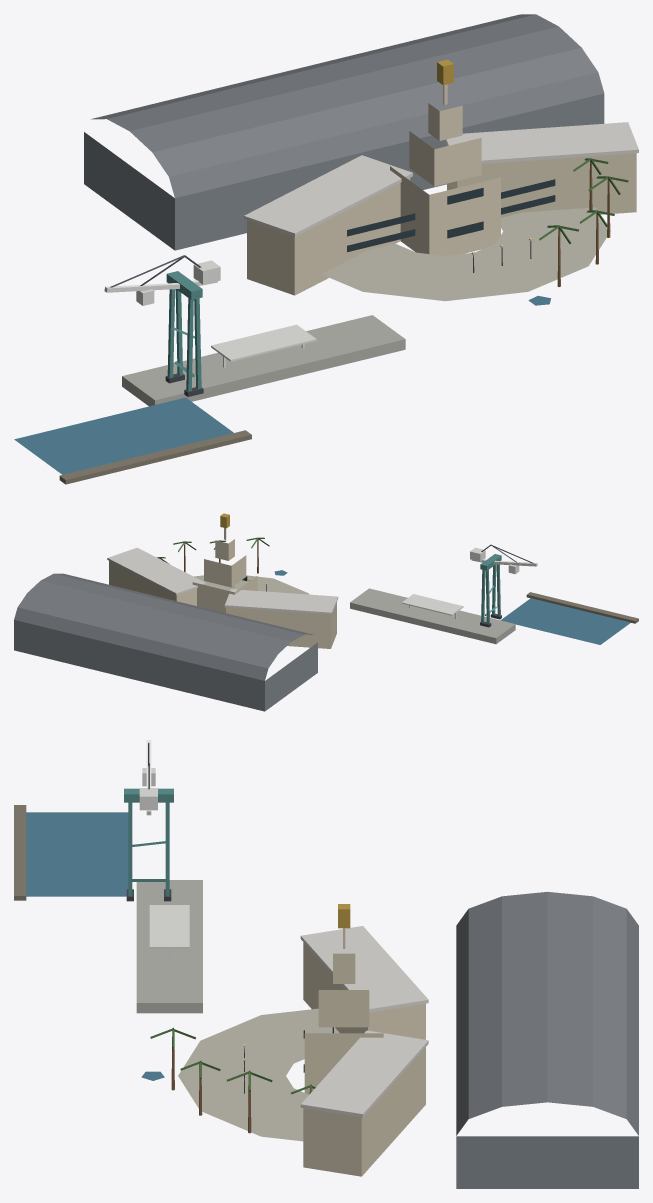
Rendered from mobile.glb.
3 renders of one model, top to bottom at view 1: azimuth 30°, elevation 25°; view 2: azimuth 150°, elevation 25°; view 3: azimuth 270°, elevation 25°, orthographic. The views are drawn at different scales.
Visible parts, largest first — view 1: lm.treasure-island; view 2: lm.treasure-island; view 3: lm.treasure-island.
Boxes of the visible parts, box(x1,y1,x2,y2) form: lm.treasure-island: box(14, 14, 638, 484); lm.treasure-island: box(14, 513, 638, 711); lm.treasure-island: box(14, 740, 638, 1188).
Size of the model in its own units: 212 by 47 by 150.
